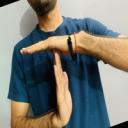hand: (53, 49, 73, 127), (19, 32, 80, 57)
